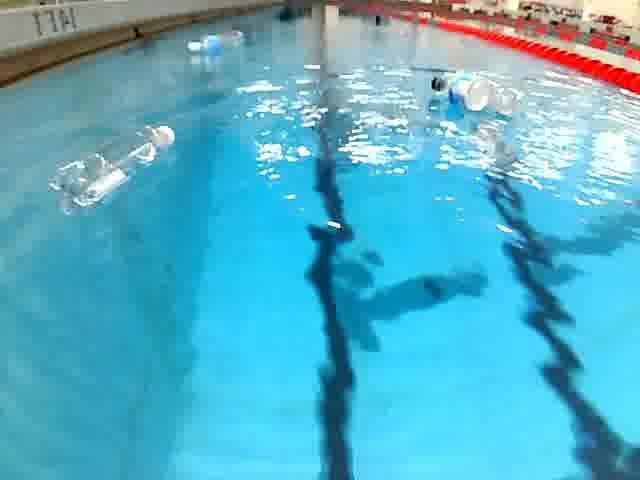Bottle: (45, 119, 179, 221), (426, 65, 526, 129), (181, 28, 249, 58)
